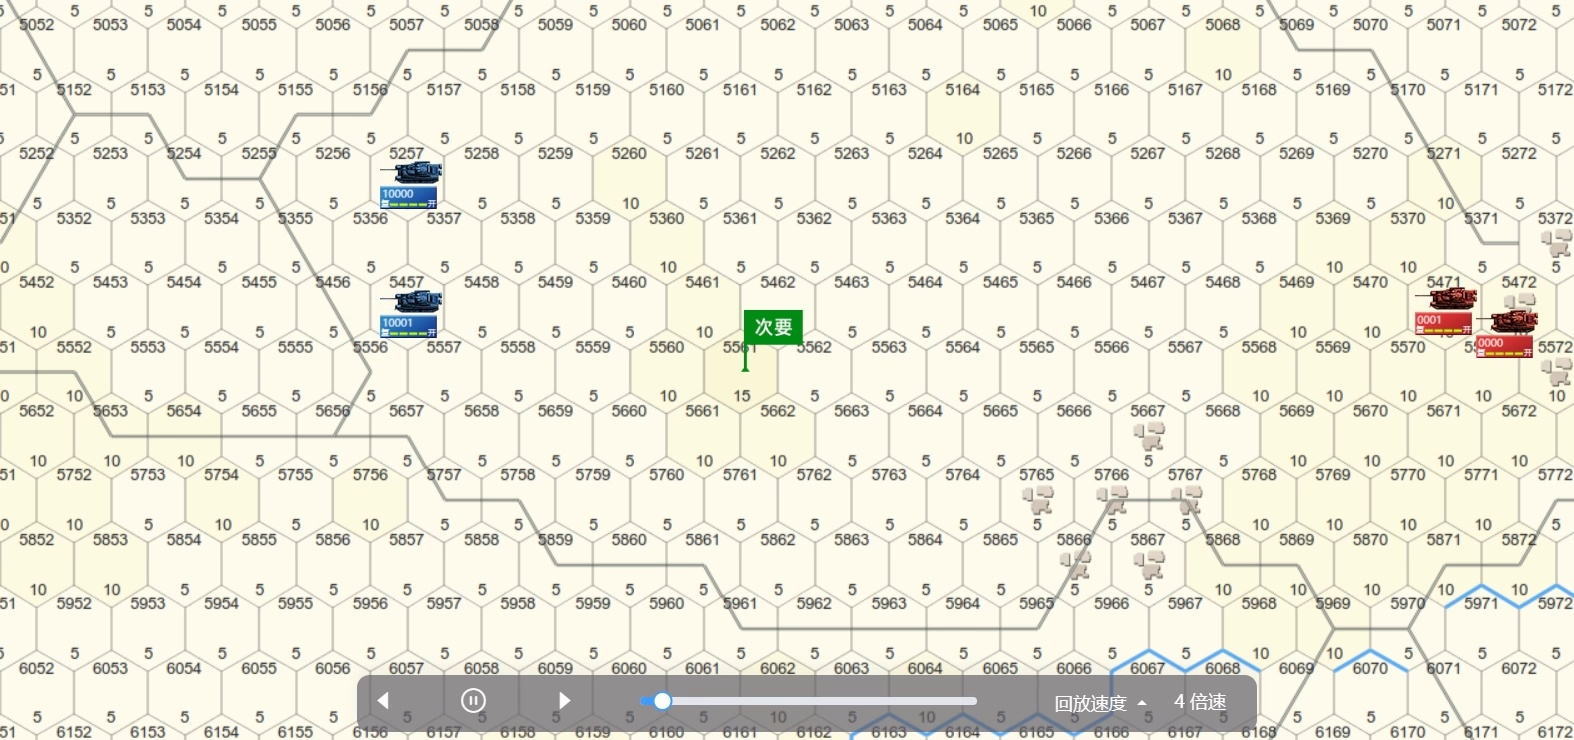blue_tank: (378, 167, 445, 209), (379, 296, 440, 334)
red_tank: (1420, 290, 1477, 335), (1481, 312, 1535, 354)
